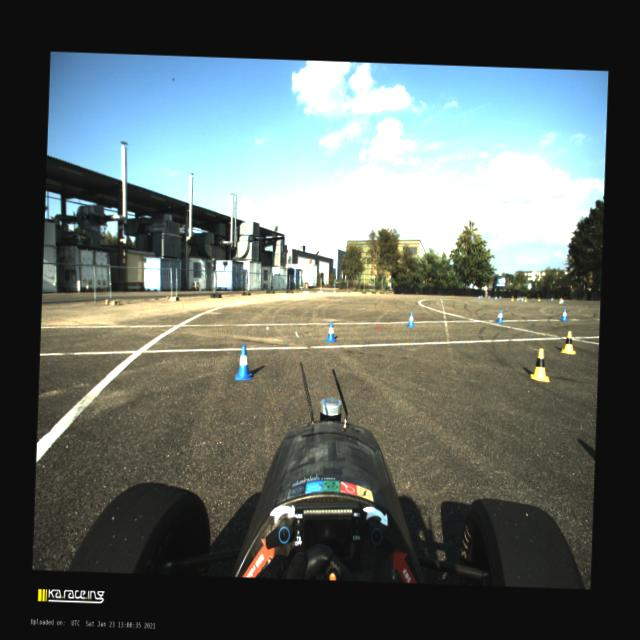blue_cone: (235, 344, 252, 380), (325, 321, 336, 342), (406, 310, 414, 326), (560, 308, 568, 321), (496, 309, 504, 322), (520, 296, 524, 302), (560, 298, 564, 304), (494, 294, 497, 300), (499, 294, 501, 300), (478, 294, 480, 299), (488, 294, 490, 299), (518, 295, 520, 300), (480, 294, 482, 298), (550, 297, 552, 301)
yellow_cone: (529, 348, 550, 382), (560, 330, 576, 353), (524, 296, 527, 302), (511, 296, 514, 300), (558, 297, 560, 303), (538, 296, 540, 301), (516, 296, 518, 300)
